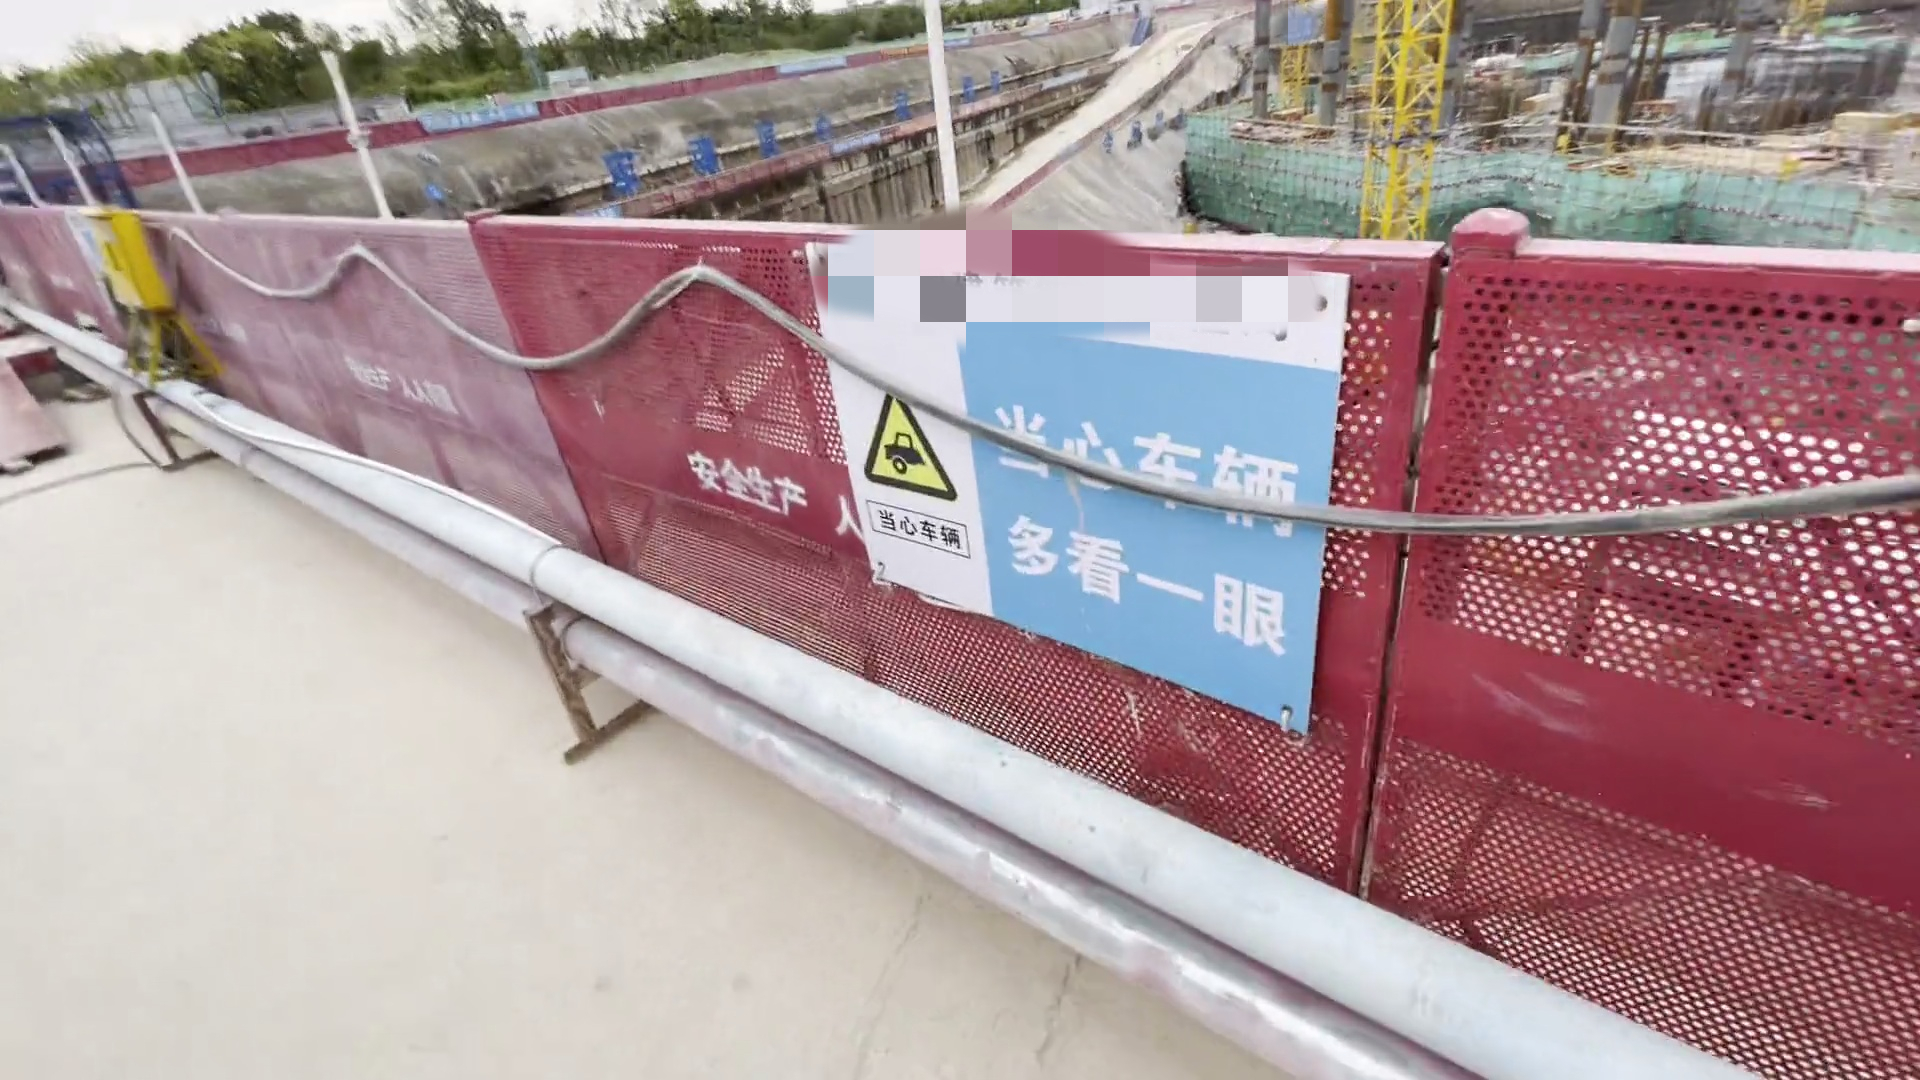board: (3, 345, 84, 492)
ebox: (75, 207, 177, 357)
fence: (592, 187, 1393, 928), (1365, 196, 1920, 1080), (3, 203, 608, 585), (121, 131, 458, 175)
slogan: (774, 208, 1367, 753), (419, 98, 538, 135), (771, 46, 849, 95), (822, 119, 887, 162)
